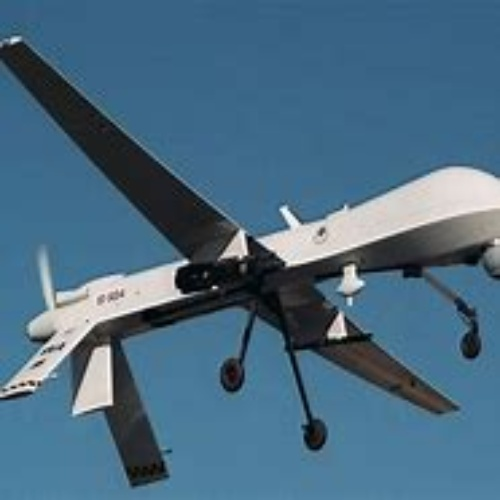uav580: (3, 34, 500, 484)
